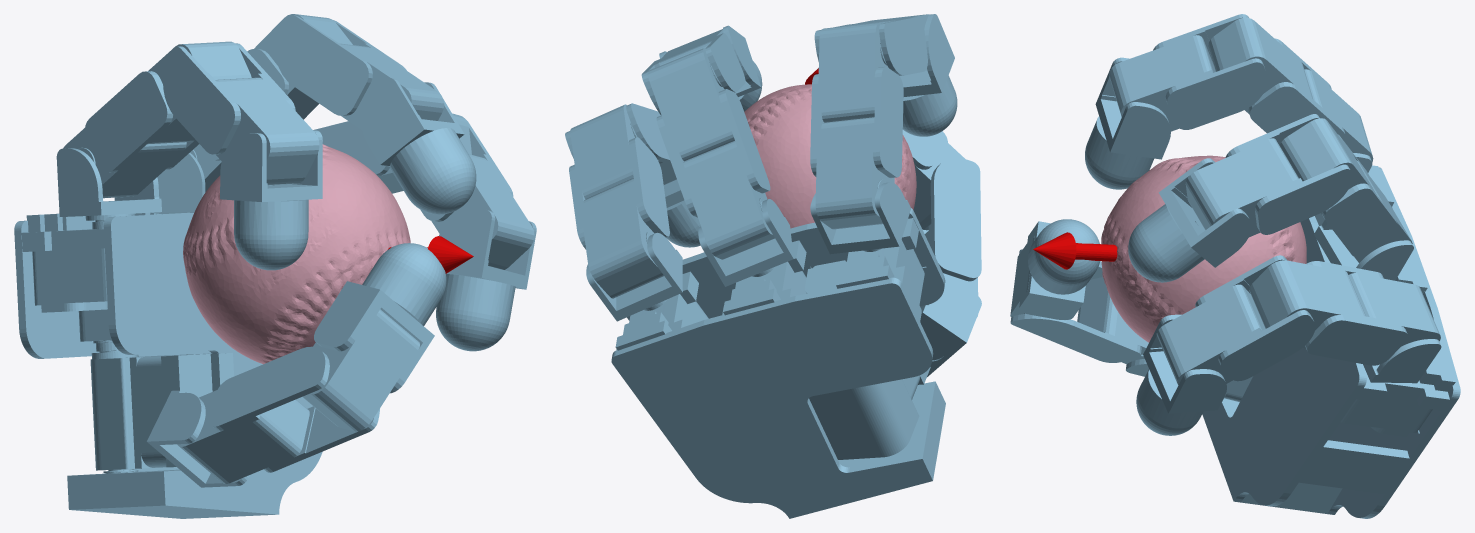
3 renders of one model, left to right at view 1: azimuth 30°, elevation 25°; view 2: azimuth 150°, elevation 25°; view 3: azimuth 270°, elevation 25°, orthographic. The views are drawn at different scales.
Visible parts, largest first — view 1: world, baseball.stl; view 2: world, baseball.stl; view 3: world, baseball.stl.
Boxes of the visible parts, <box> form: world: <box>14,14,536,518</box>; baseball.stl: <box>183,144,410,364</box>; world: <box>565,14,981,518</box>; baseball.stl: <box>744,84,916,228</box>; world: <box>1010,14,1460,518</box>; baseball.stl: <box>1101,155,1306,342</box>.
Bounding box in the file's own units: 0.1611 × 0.1857 × 0.159.
